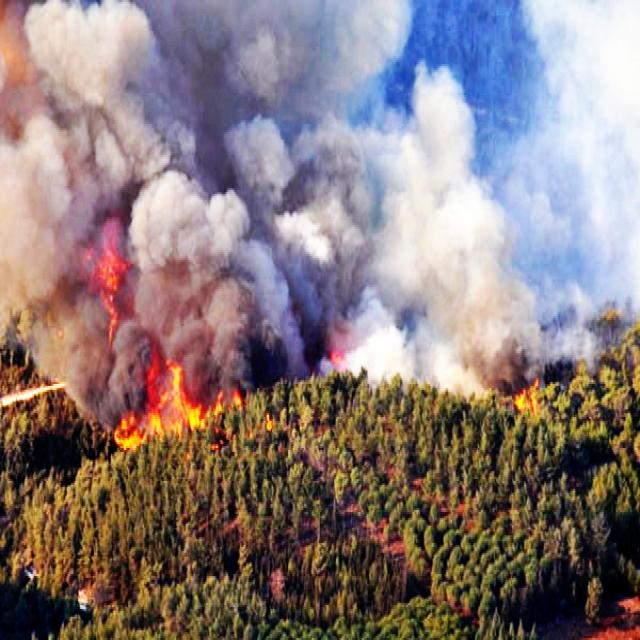api: (157, 362, 204, 429), (101, 254, 123, 330), (108, 413, 141, 452), (515, 386, 535, 417), (330, 355, 350, 378), (215, 389, 226, 425), (233, 389, 247, 412), (266, 417, 278, 438)
asap: (4, 2, 640, 250), (129, 261, 636, 350), (1, 248, 98, 399), (361, 335, 497, 400)
